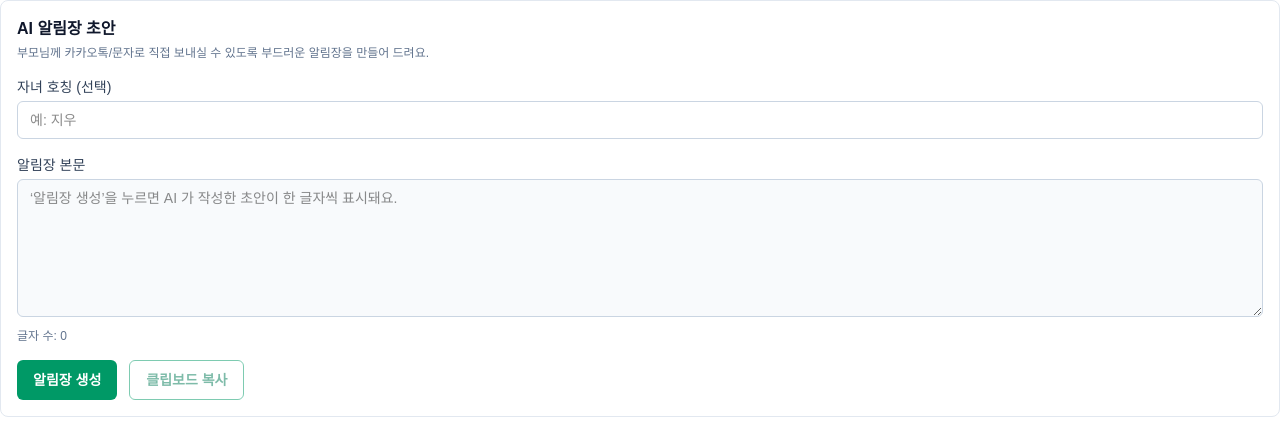
Test: CushionNoteGenerator › scenario 3: 스트림 완료 → '생성 완료' + cushion_note_generated 이벤트 (source='gemini')
This screenshot has width=1280, height=434.
Click the button with test id "cushion-generate-button" at (67, 380), box left=17, top=360, right=117, bottom=400
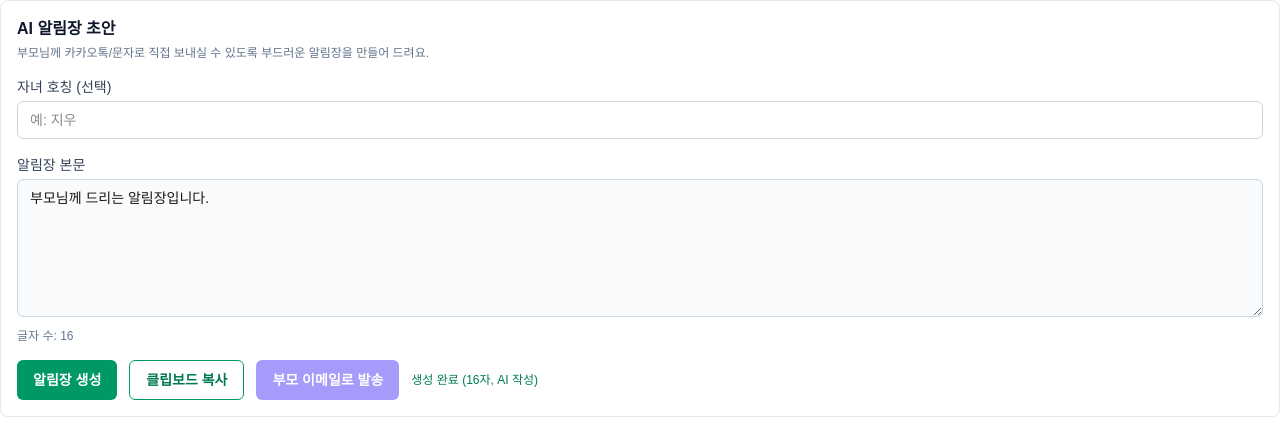
Expected: the text "생성 완료 (16자, AI 작성)" is shown, left=411, top=372, right=538, bottom=388
